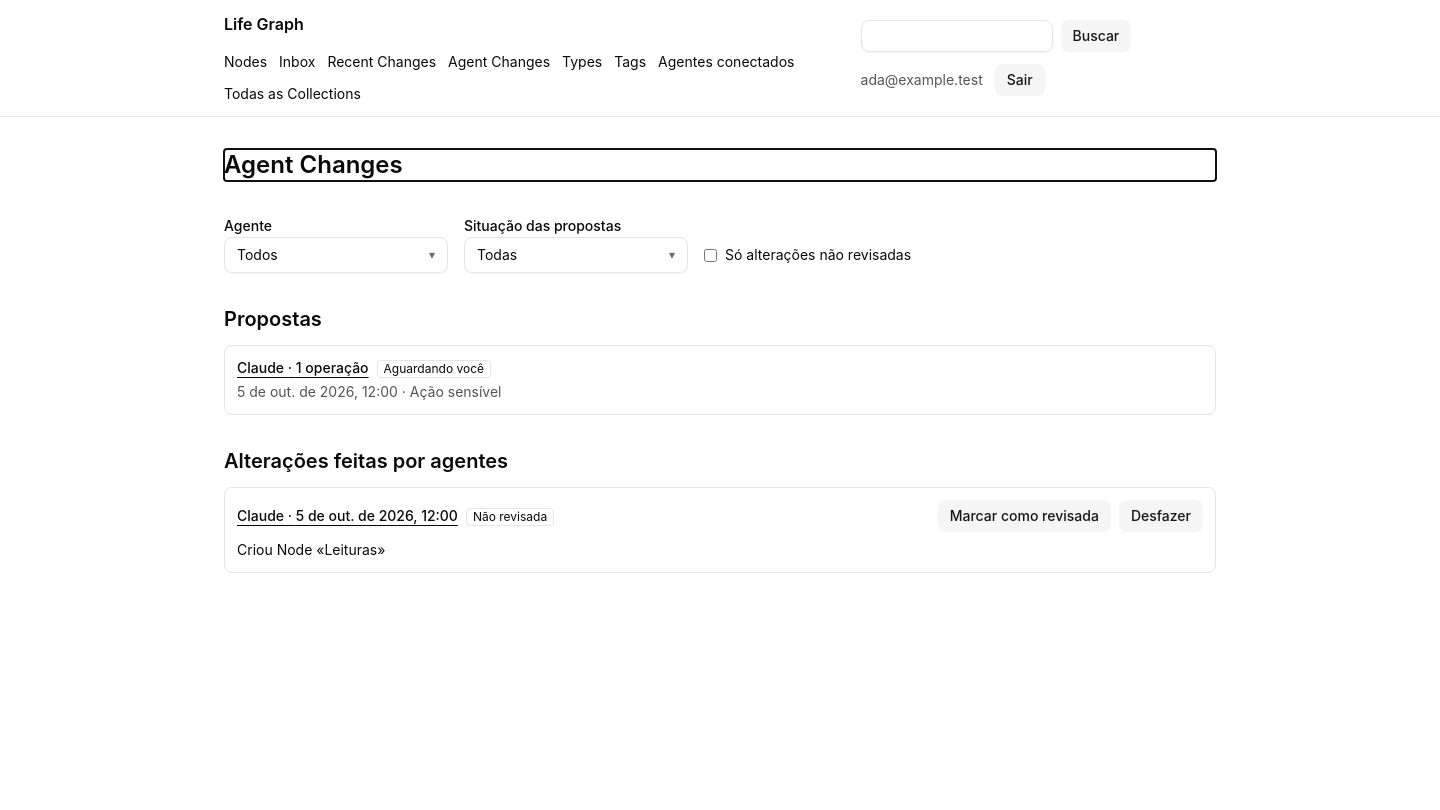
Test case: Agent Changes › offers every connected agent in the filter, reading each page of the agents list
expect the list named "Propostas" is shown: met, box [224,345,1216,415]
Click the dropdown named "Agente". click: (336, 255)
box: [224,237,448,273]
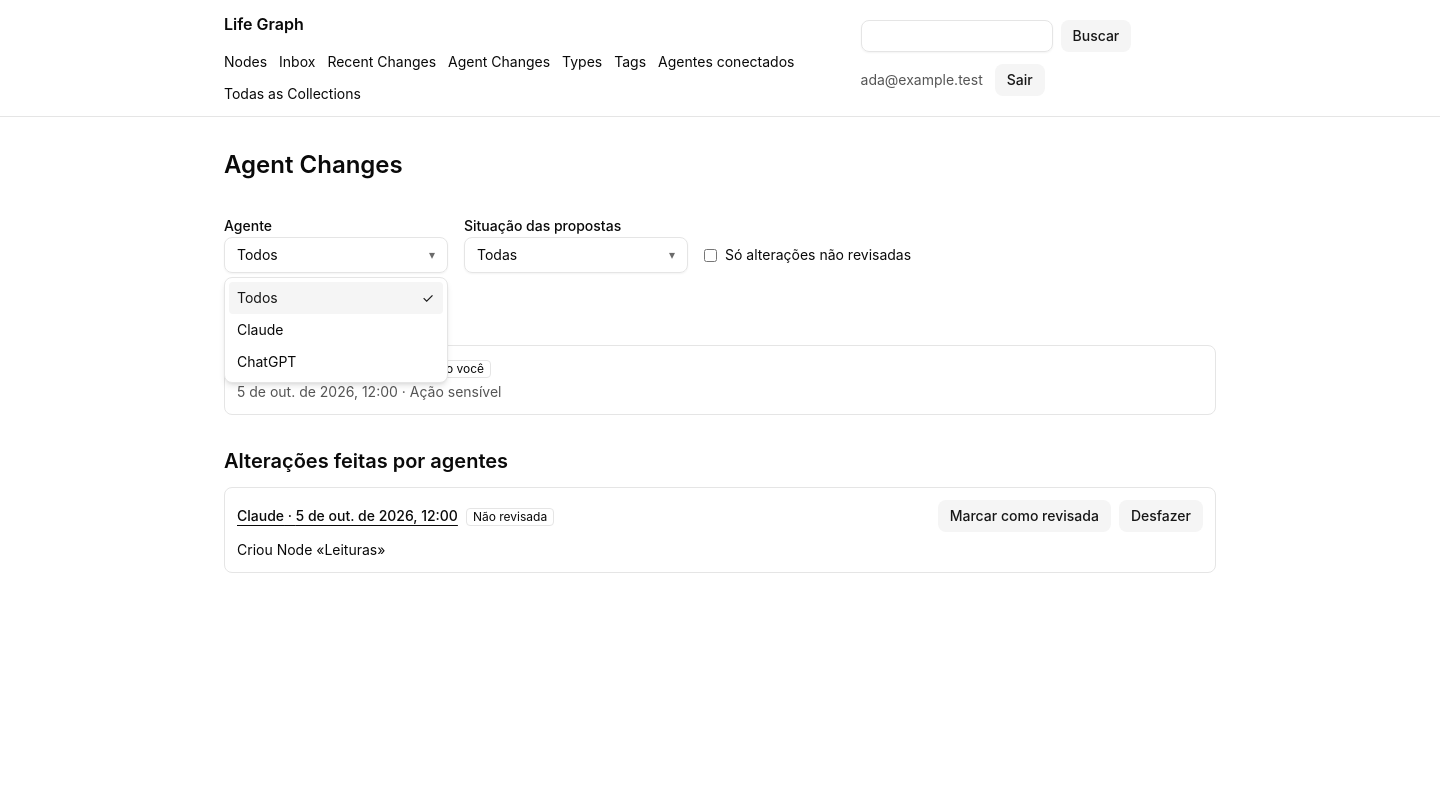
expect the option "ChatGPT" is shown: met, box [237,353,296,370]
expect the option "Claude" is shown: met, box [237,321,284,338]
